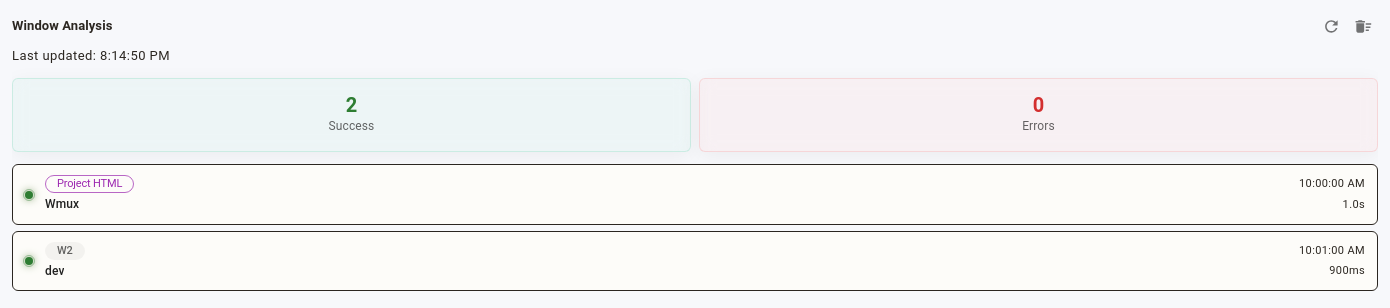
Test: StatsView › clicking Errors reloads stats with an error status filter
Expected: the list item with test id "stats-event-project-html-1" is shown, x1=12 y1=164 x2=1378 y2=225
Click the button with test id "stats-filter-errors": (1038, 115) x1=699 y1=78 x2=1378 y2=152
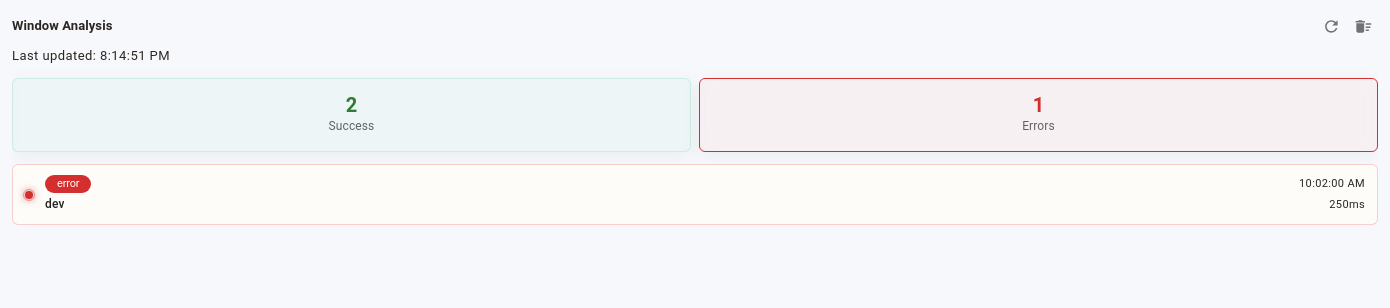
Expected: the list item with test id "stats-event-analysis-error-1" is shown, x1=12 y1=164 x2=1378 y2=225
Expected: the list item with test id "stats-event-project-html-1" is gone
